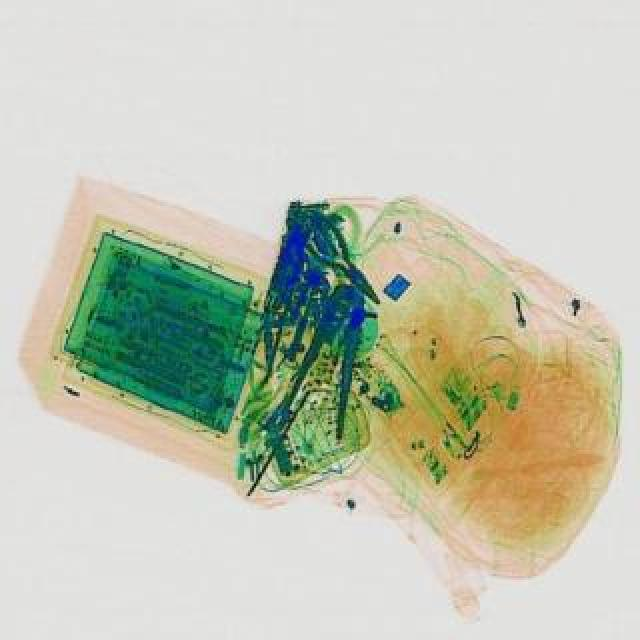wrench: (276, 276, 390, 442), (296, 210, 396, 312)
